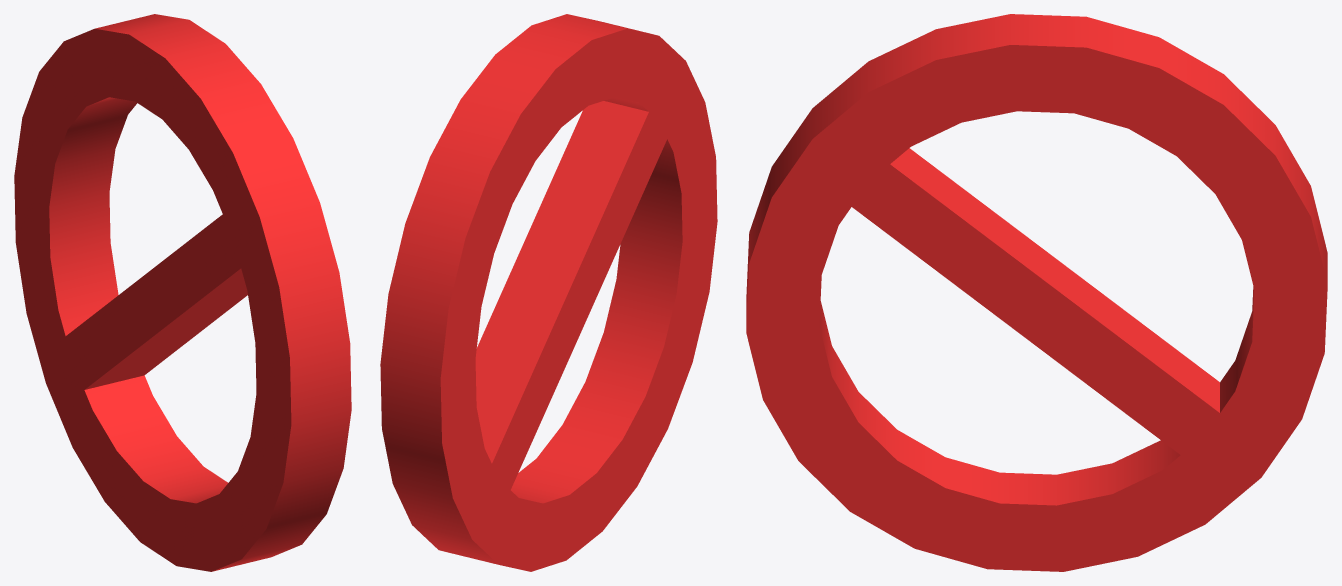
The model's file is delete.dae.
3 renders of one model, left to right at view 1: azimuth 30°, elevation 25°; view 2: azimuth 150°, elevation 25°; view 3: azimuth 270°, elevation 25°, orthographic. The views are drawn at different scales.
Parts seen in each view (by area): view 1: group_0 (×3); view 2: group_0 (×3); view 3: group_0 (×3).
Part boxes in pixels (x1,y1,x2,y2): group_0 (×3): (14, 14, 351, 571); group_0 (×3): (380, 14, 717, 571); group_0 (×3): (746, 14, 1327, 571).
Size of the model in its own units: 0.125 by 0.9958 by 0.9958.
